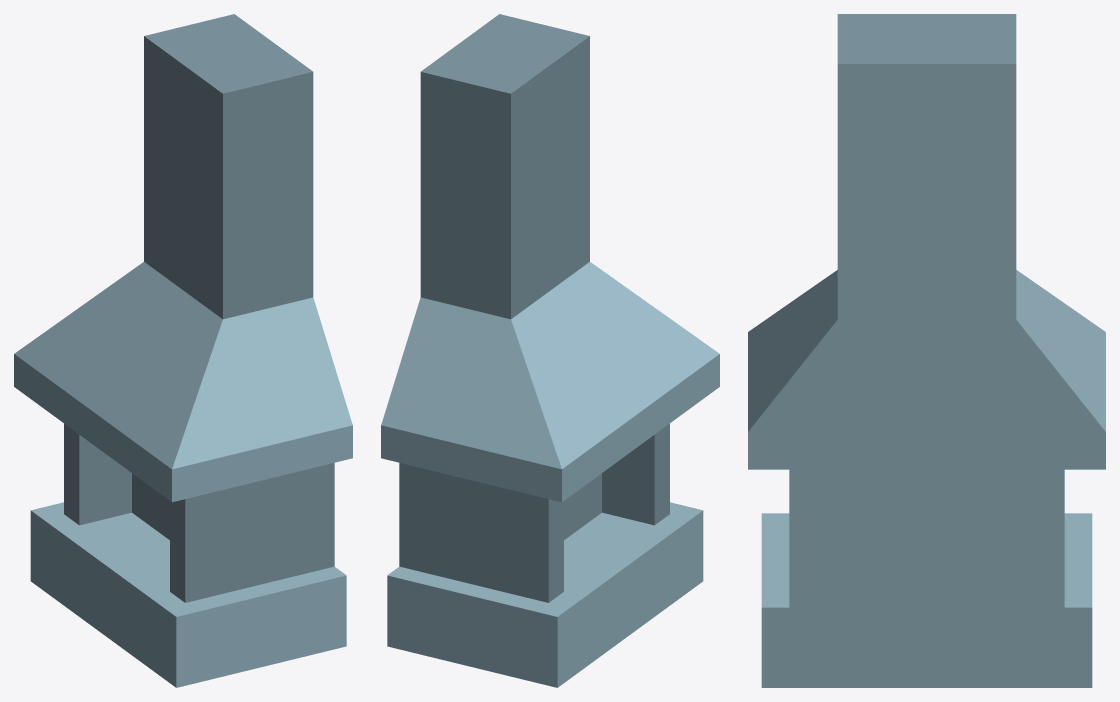
Rendered from chimneyBase.obj.
The picture shows the model from 3 angles, left to right: view 1: azimuth 30°, elevation 25°; view 2: azimuth 150°, elevation 25°; view 3: azimuth 270°, elevation 25°; orthographic projection. The views are drawn at different scales.
Visible parts, largest first — view 1: chimneyBase; view 2: chimneyBase; view 3: chimneyBase.
Boxes of the visible parts, x1=… form: chimneyBase: x1=14, y1=14, x2=352, y2=687; chimneyBase: x1=381, y1=14, x2=719, y2=687; chimneyBase: x1=748, y1=14, x2=1105, y2=687.
Bounding box in the file's own units: 0.344 × 1 × 0.52.
